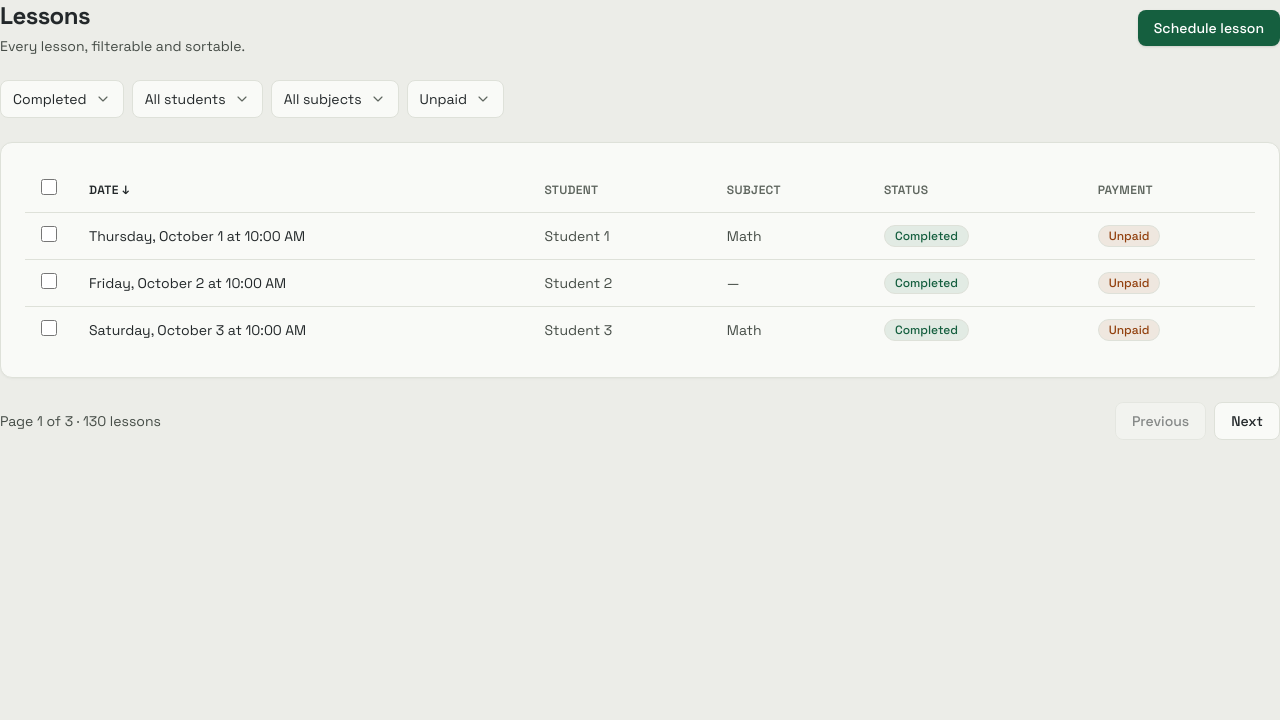
Test case: LessonsListView select all matching › shows an alert and keeps all-matching mode when the filter action fails
The width and height of the screenshot is (1280, 720).
Click the checkbox named "Select all visible lessons" at (49, 187), box [41,179,57,195]
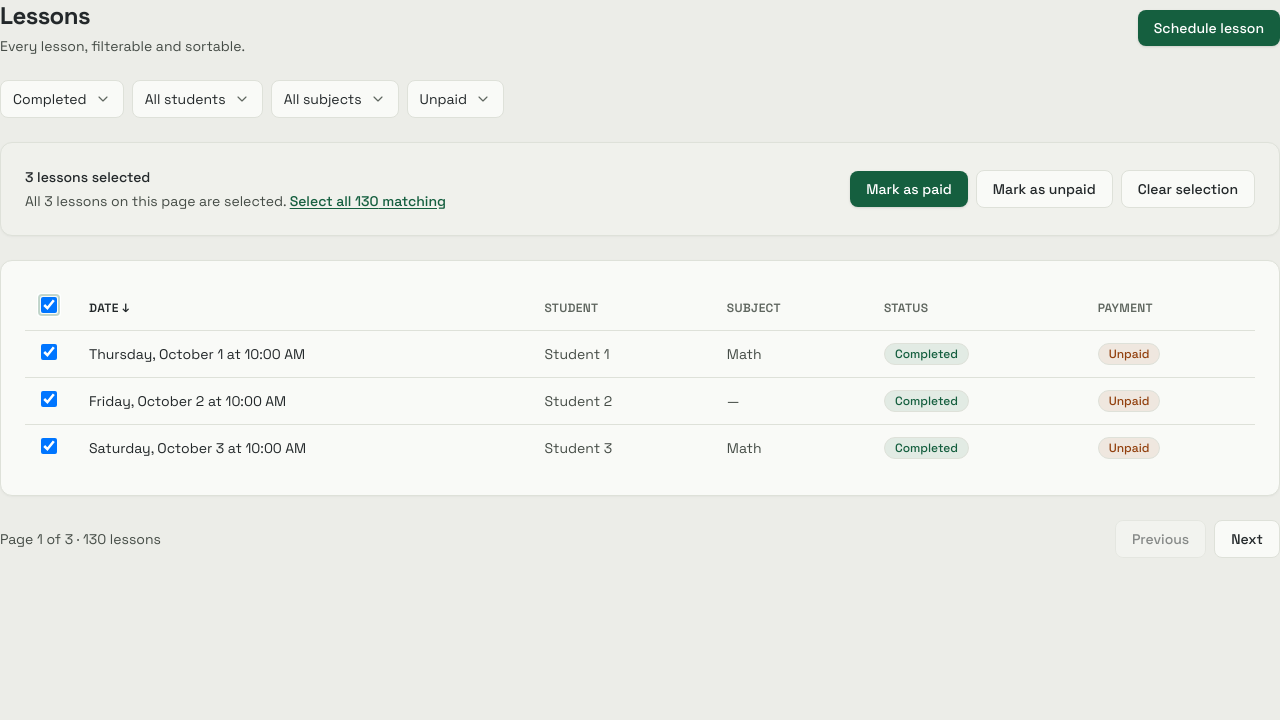
Click the button "Select all 130 matching" at (368, 201), box [290,191,446,211]
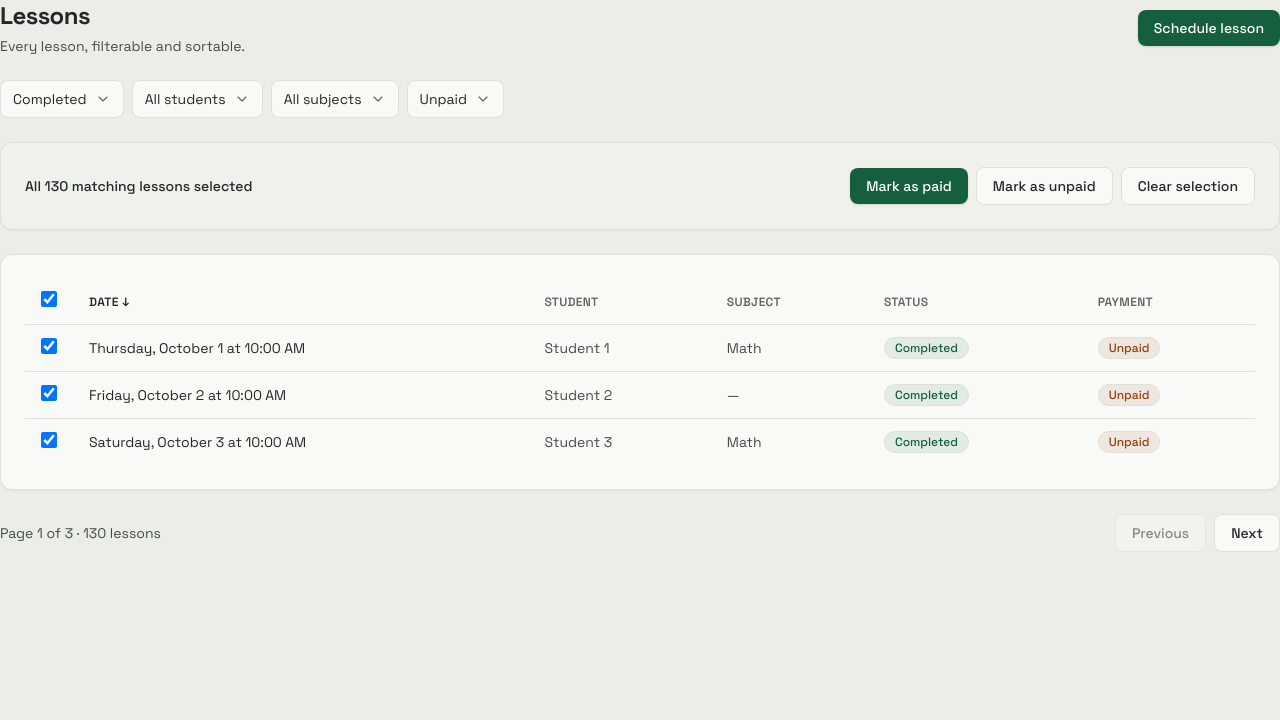
Click the button "Mark as paid" at (909, 186), box [850,168,968,204]
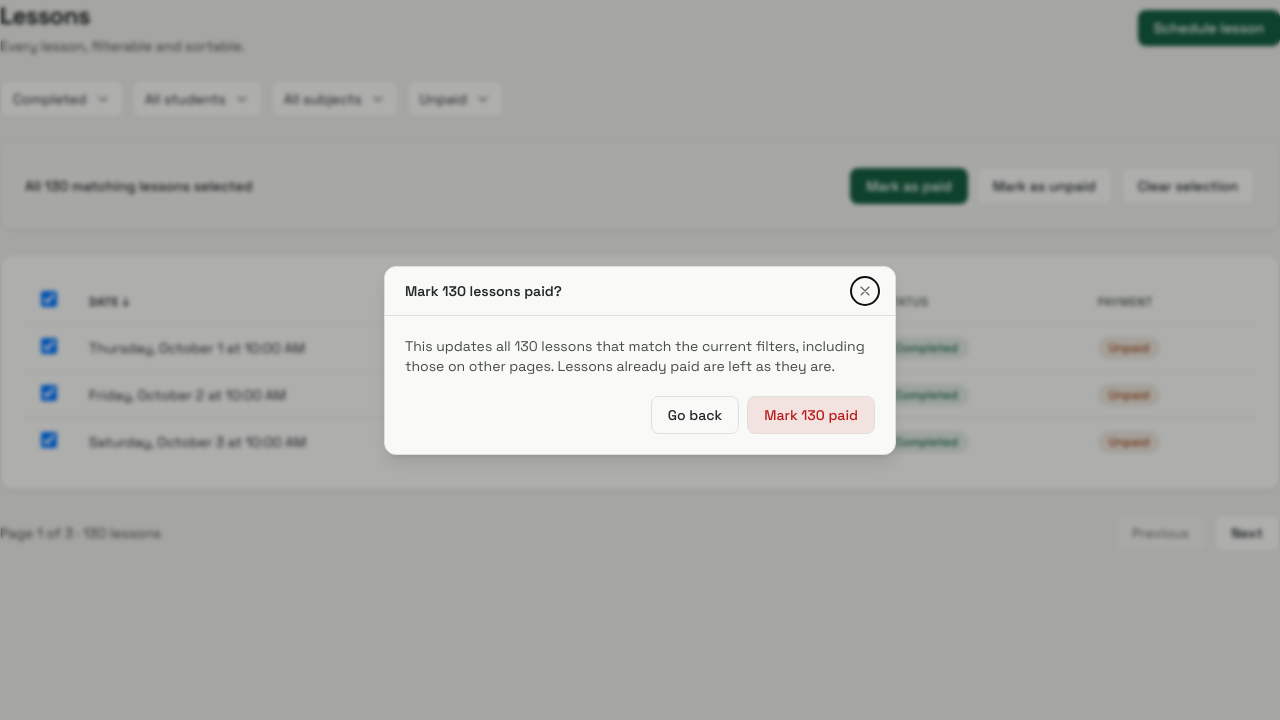
Click the button "Mark 130 paid" at (811, 414), box [747,396,875,434]
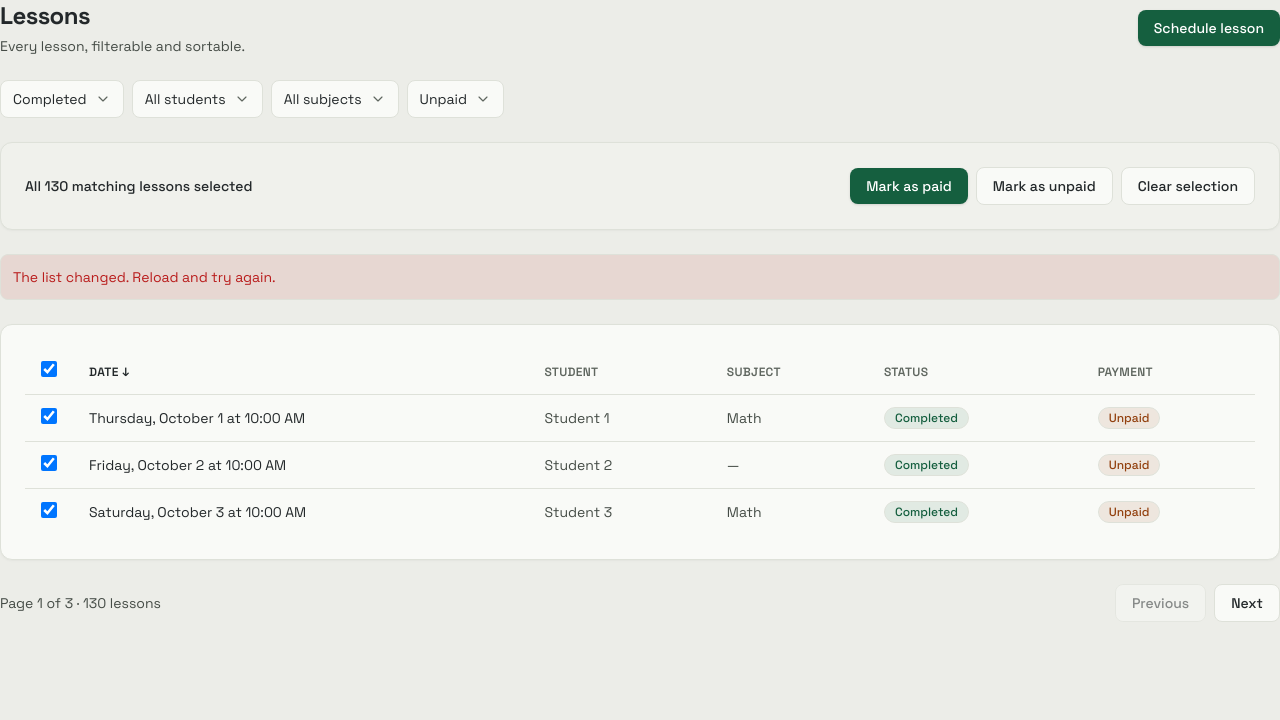
Now the text "All 130 matching lessons selected" is shown, box [25,177,252,195]
Now the message reads "The list changed. Reload and try again.", box [13,268,276,286]
